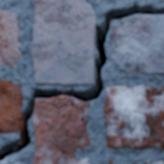brick: (32, 0, 95, 85), (105, 86, 163, 149), (34, 98, 89, 163), (111, 16, 163, 74), (0, 11, 21, 67), (0, 81, 22, 133), (75, 101, 90, 115)
crack: (0, 2, 163, 163)
